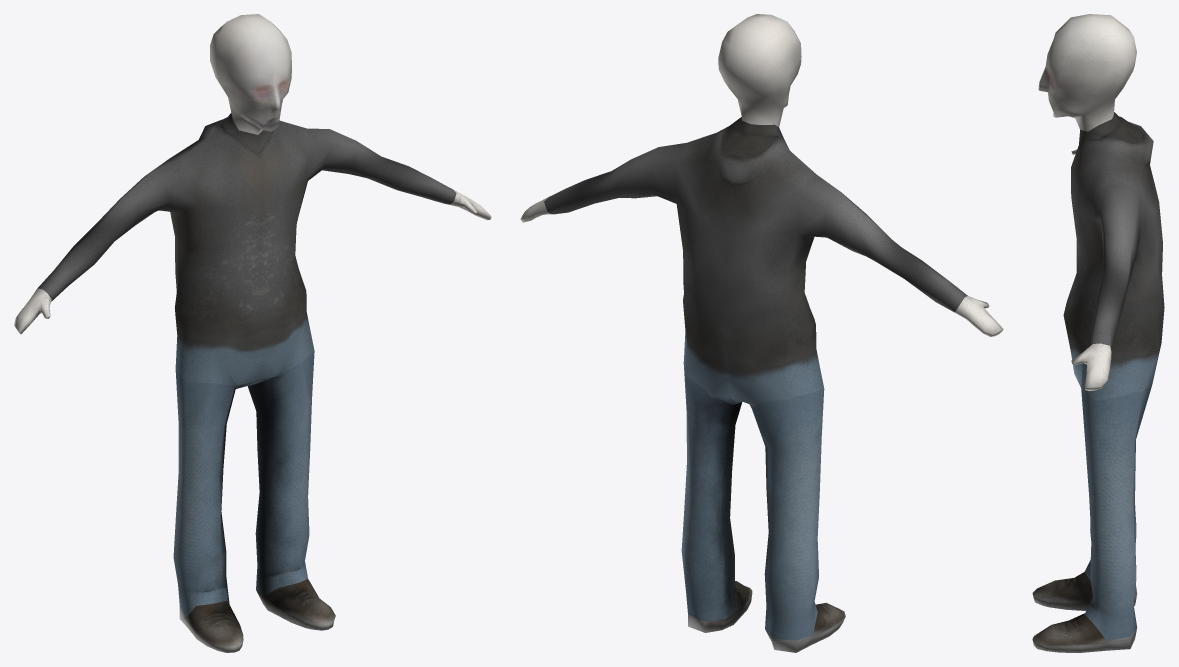
The model's file is char_junkie.fbx.
3 views of the same model, side by side, from view 1: azimuth 30°, elevation 25°; view 2: azimuth 150°, elevation 25°; view 3: azimuth 270°, elevation 25° (orthographic).
Parts seen in each view (by area): view 1: Plane; view 2: Plane; view 3: Plane.
Boxes of the visible parts, left/top/right/bottom form: Plane: left=14, top=14, right=491, bottom=652; Plane: left=520, top=14, right=1003, bottom=652; Plane: left=1032, top=14, right=1164, bottom=652.
Bounding box in the file's own units: 801 × 974 × 193.
